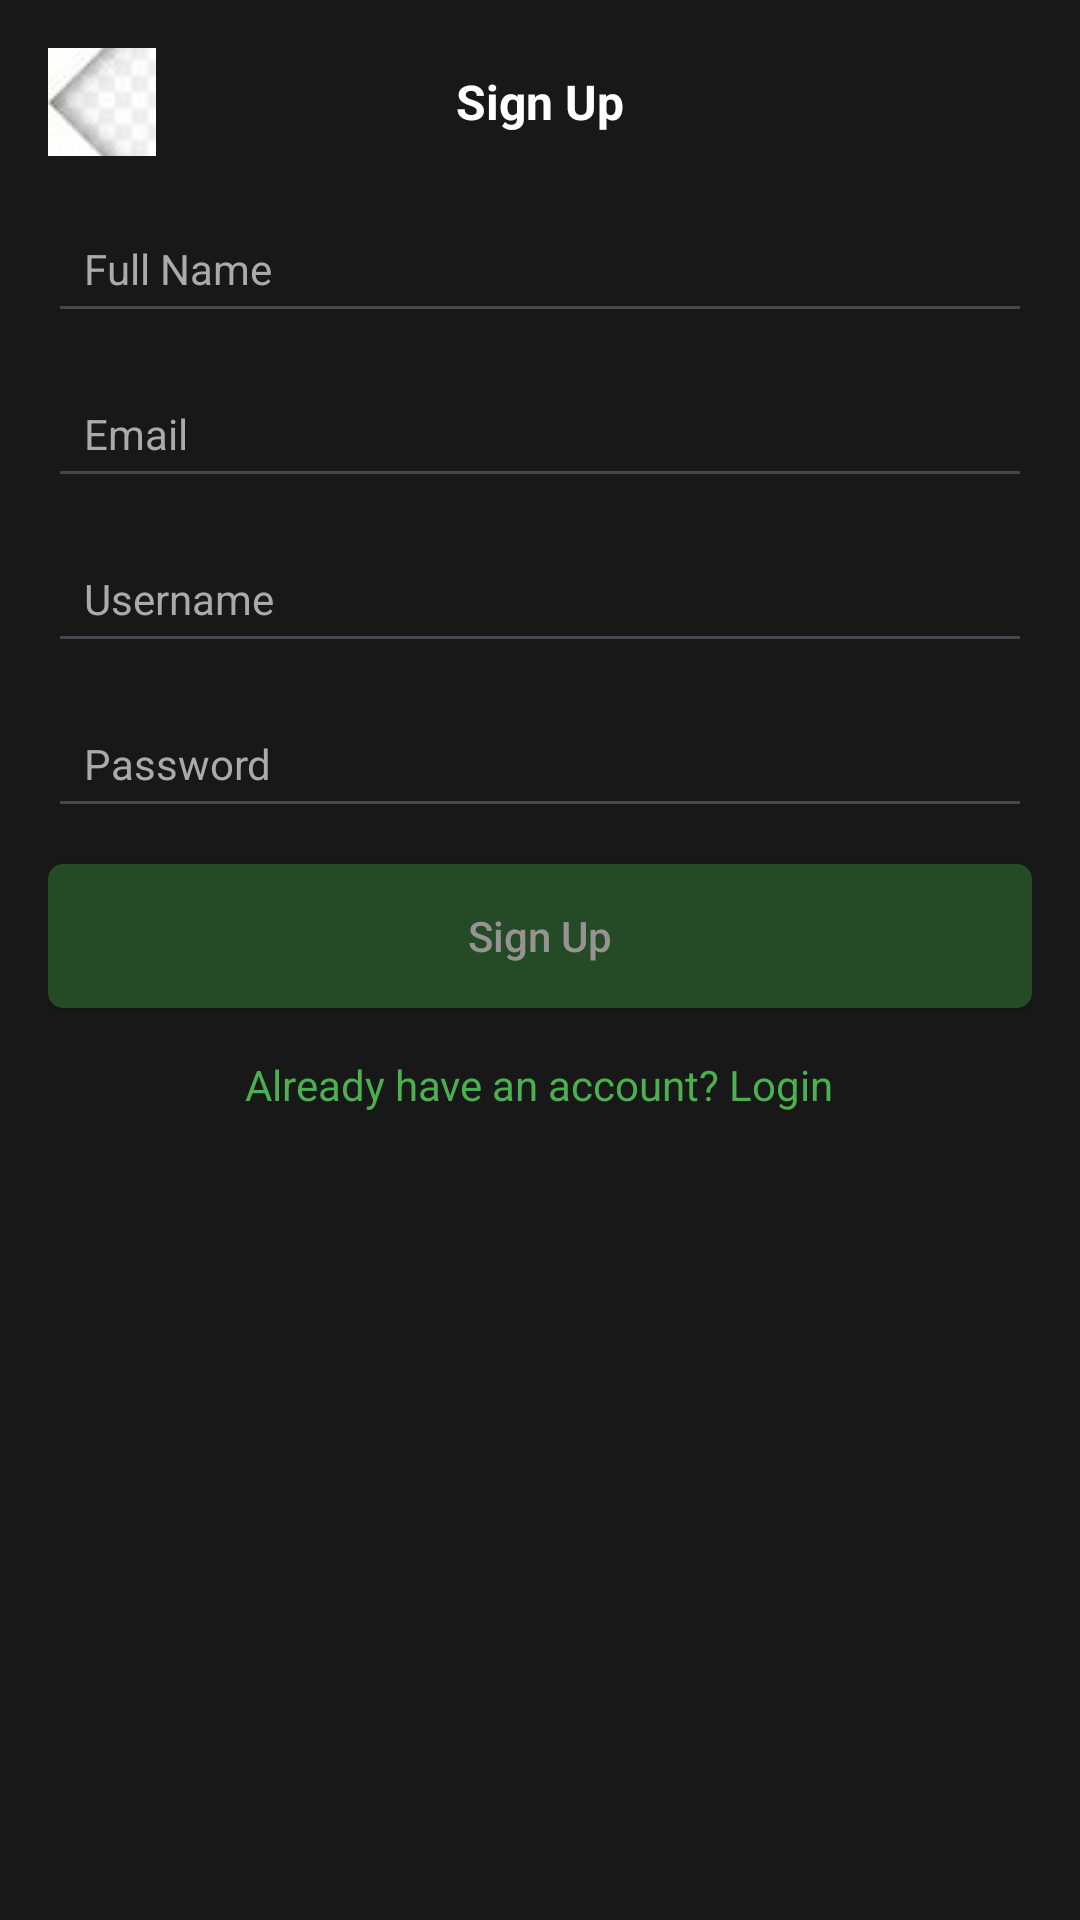

Icon bounding boxes for this 1080×1920 phone screenshot, format (left=x1, top=y1, right=x2, bottom=y2):
Back: (left=48, top=48, right=156, bottom=156)
